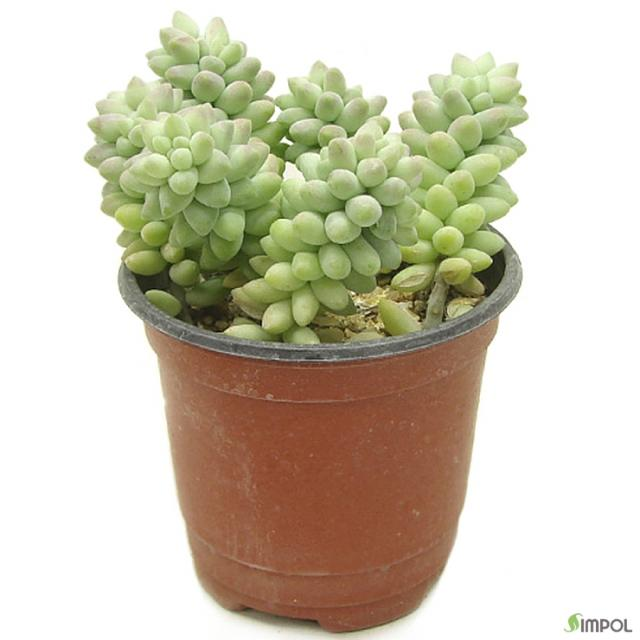Sedum: (262, 121, 408, 341), (399, 52, 528, 295), (115, 104, 281, 286), (148, 12, 286, 146), (275, 61, 386, 162), (85, 76, 149, 216)
